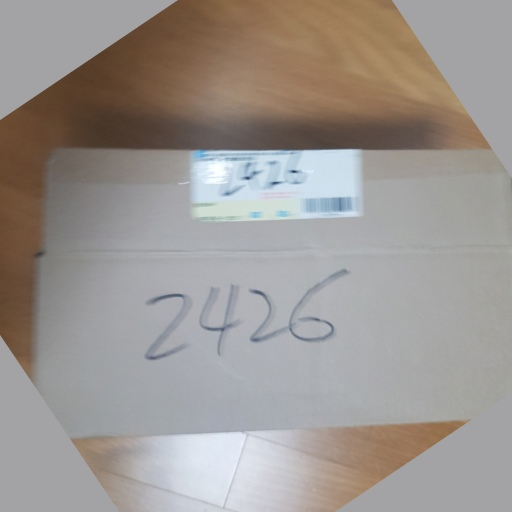Paper_0: (32, 142, 512, 444)
